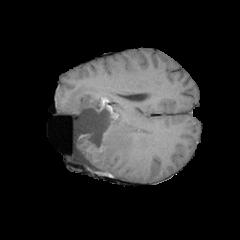glioma: (67, 85, 150, 167)
